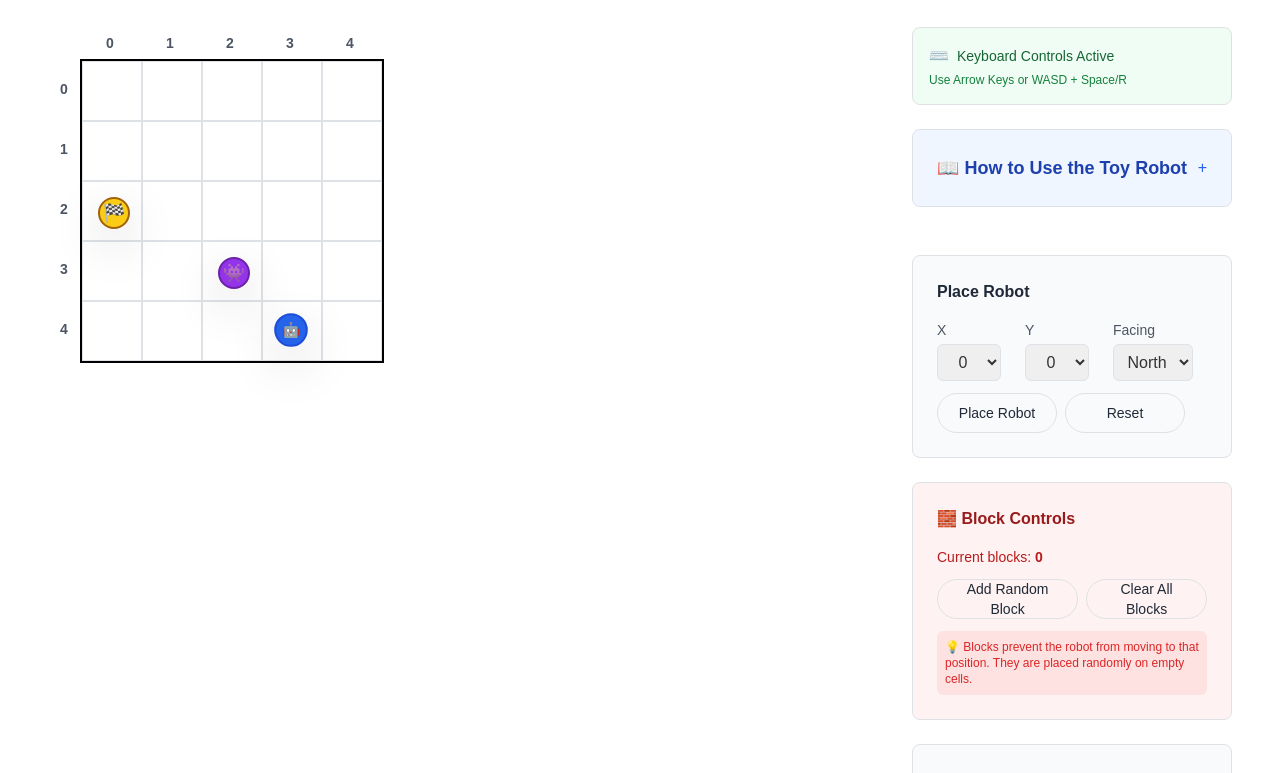
rotate robot left and right
This screenshot has width=1280, height=773.
Select "1" in the dropdown labelled "X": (969, 362) [937, 344, 1001, 381]
Select "1" in the dropdown labelled "Y": (1057, 362) [1025, 344, 1089, 381]
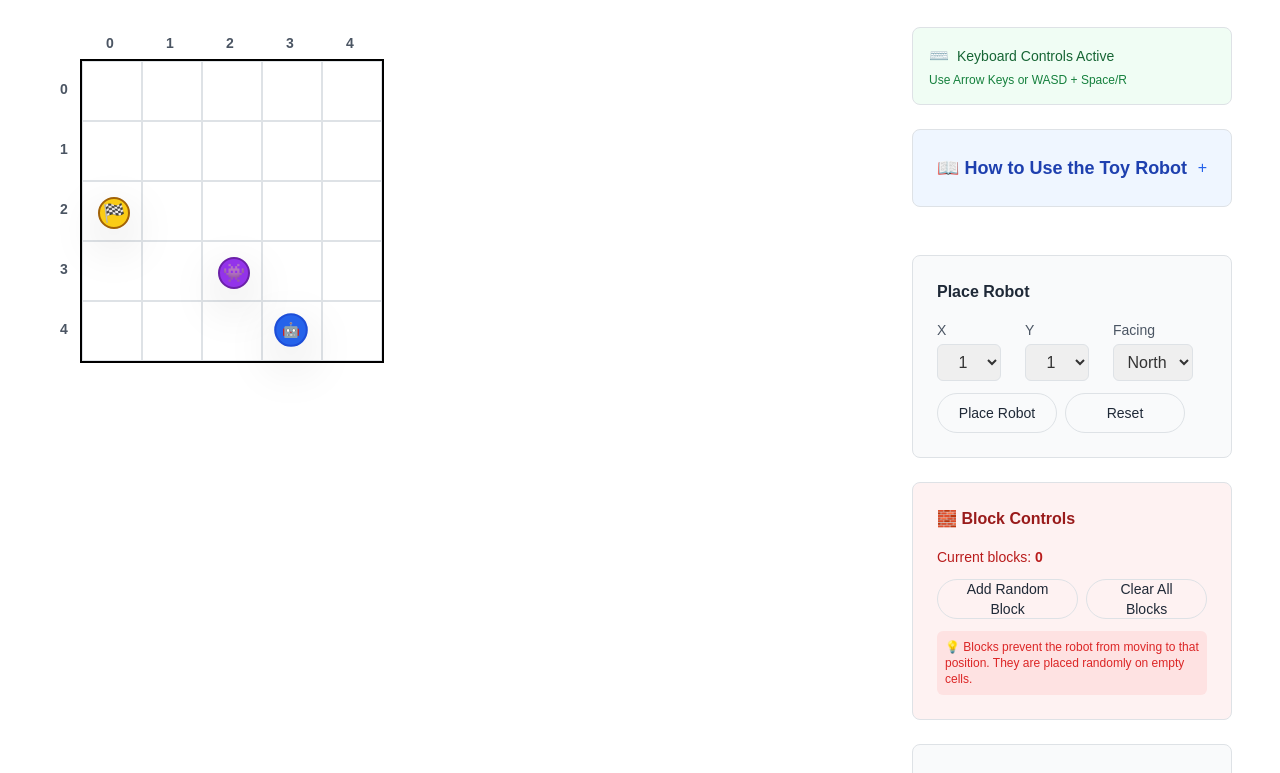
Select "North" in the dropdown labelled "Facing": (1153, 362) [1113, 344, 1193, 381]
Click the button "Place Robot": click(997, 413) [937, 393, 1057, 433]
(page scrolled)
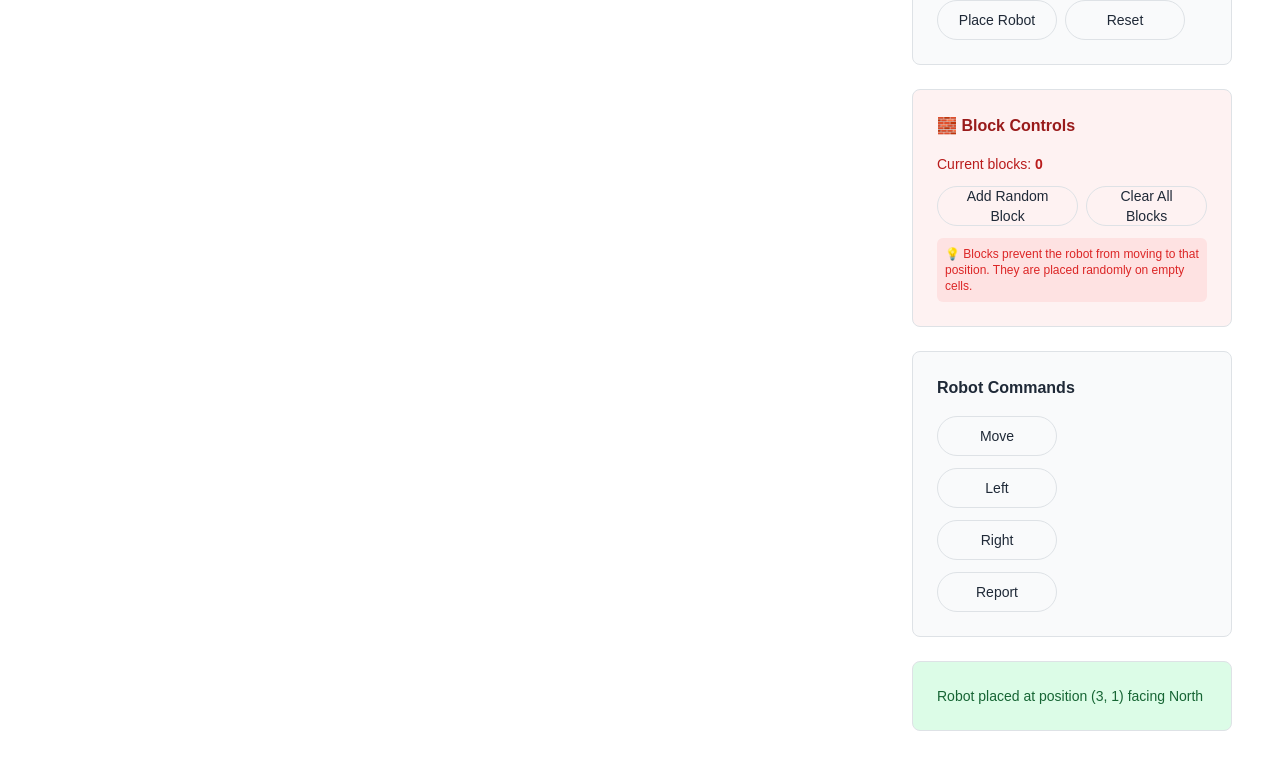
Click the button "Left": click(997, 488) [937, 468, 1057, 508]
(page scrolled)
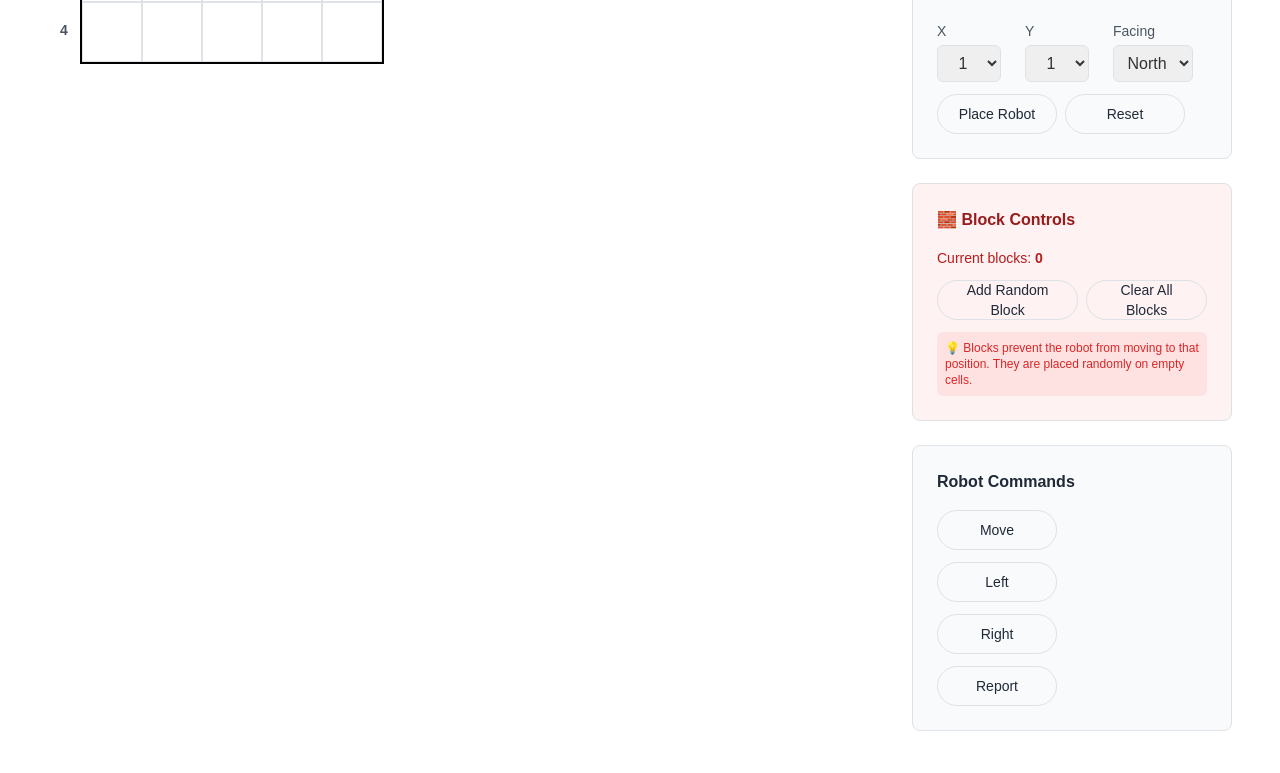
Click the button "Report": click(997, 686) [937, 666, 1057, 706]
(page scrolled)
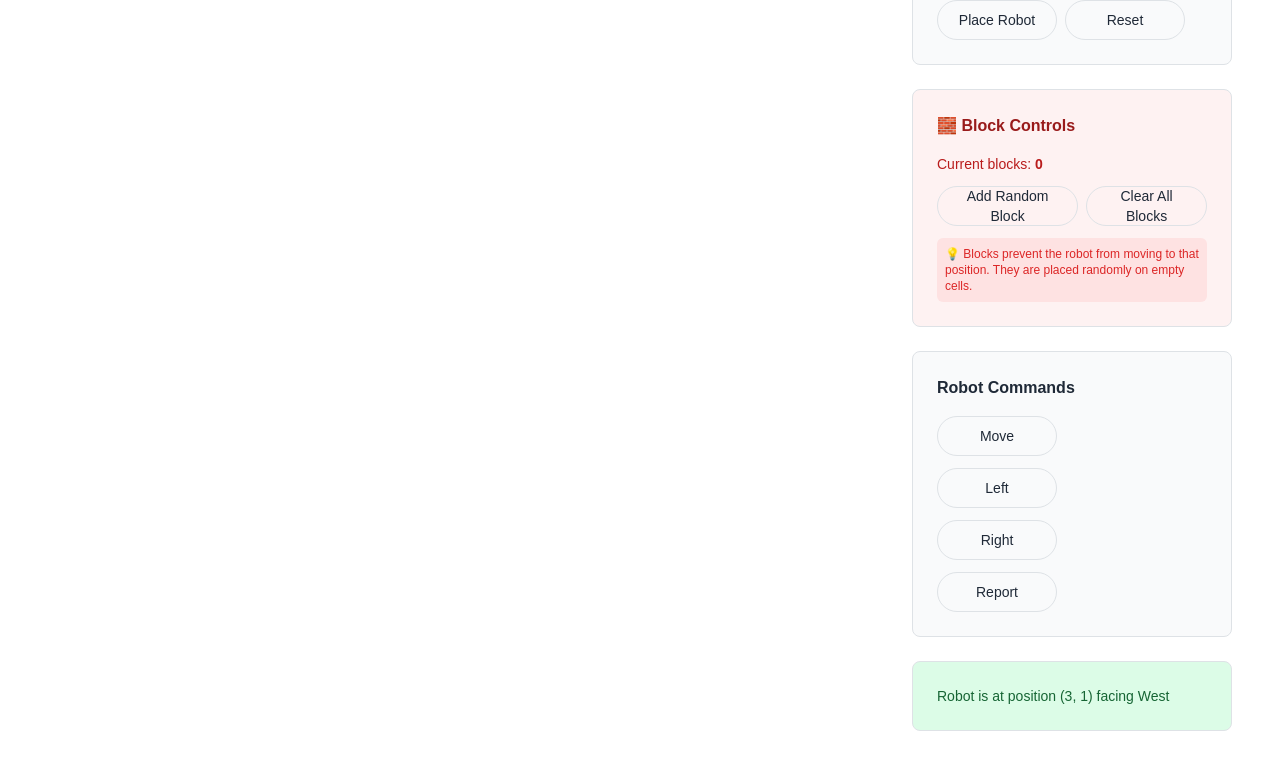
Now the text "Robot is at position (3, 1) facing West" is shown, box [937, 686, 1207, 706]
Click the button "Right": click(997, 540) [937, 520, 1057, 560]
(page scrolled)
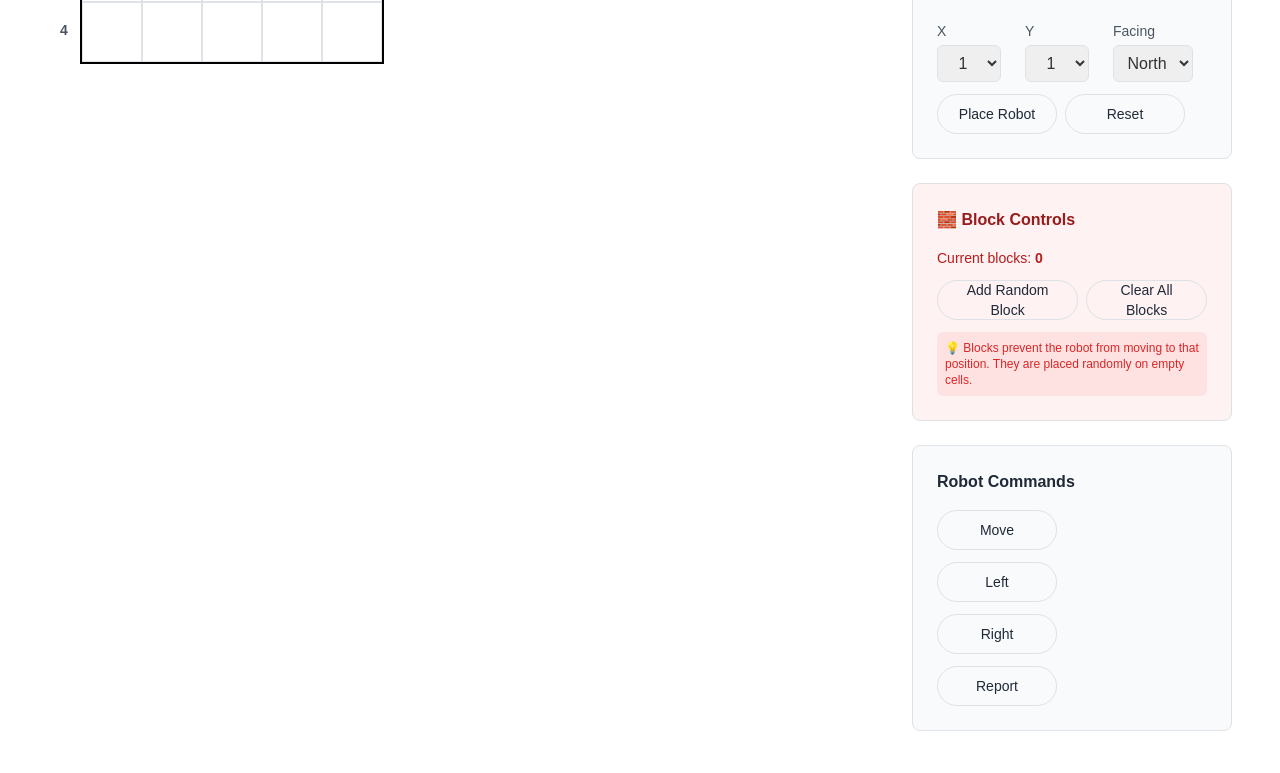
Click the button "Report": click(997, 686) [937, 666, 1057, 706]
(page scrolled)
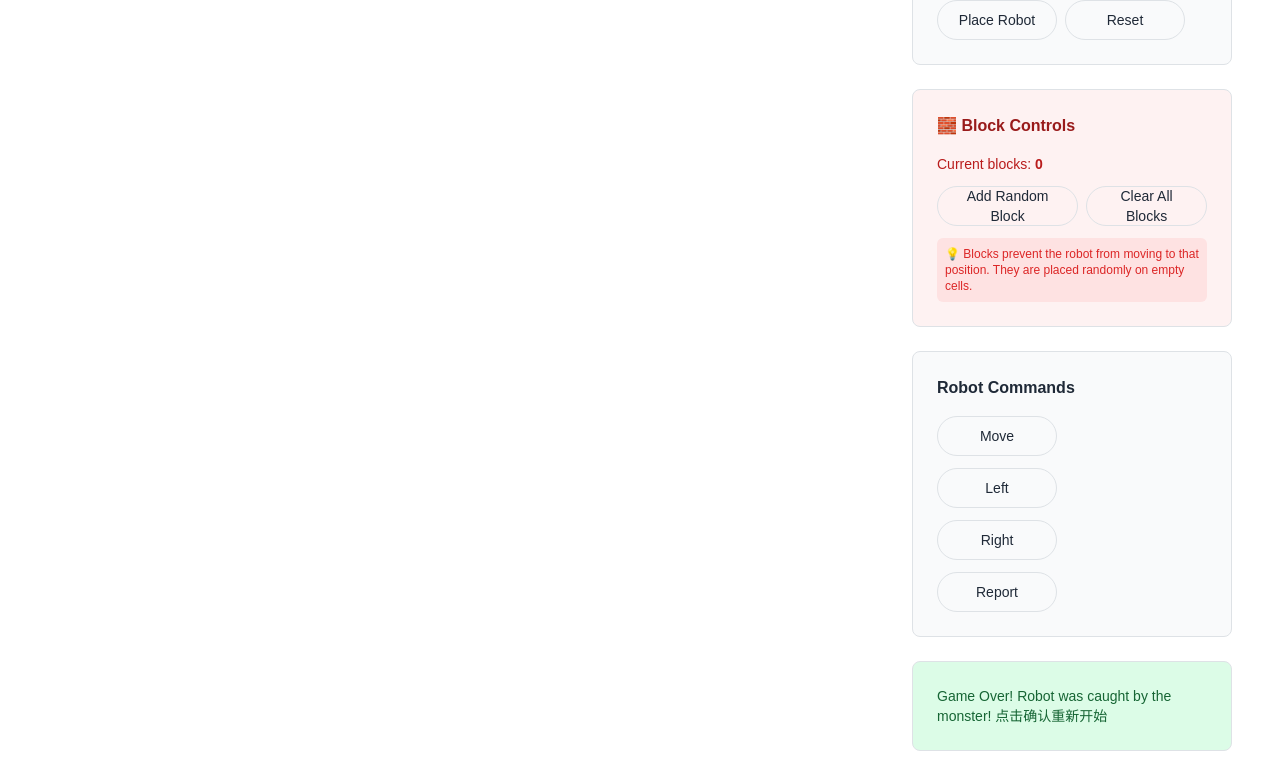
Now the text "facing North" is shown, box [937, 686, 1207, 726]
